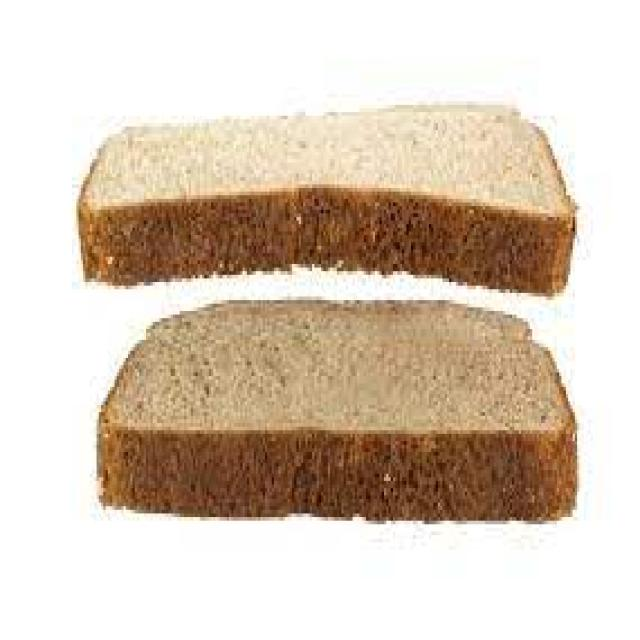Bread: (98, 302, 576, 518), (79, 107, 574, 293)
